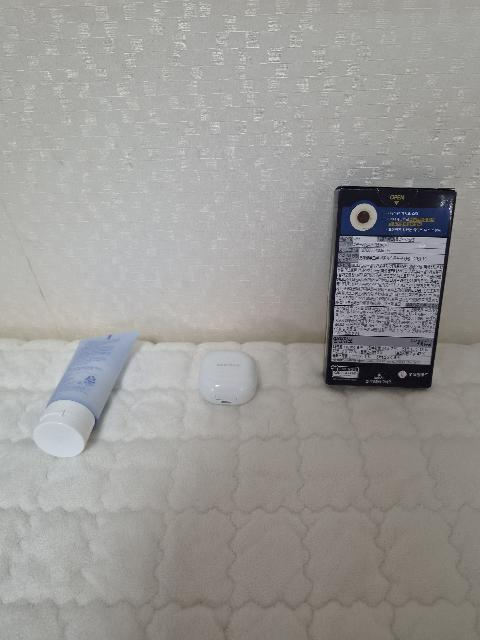earphone_case: (198, 350, 257, 404)
handcream: (33, 331, 141, 458)
pepero: (322, 186, 457, 389)
